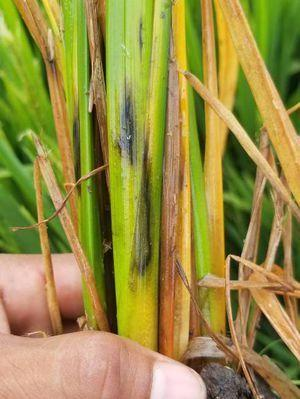Stem Rot: (122, 136, 169, 295), (107, 71, 145, 174)
